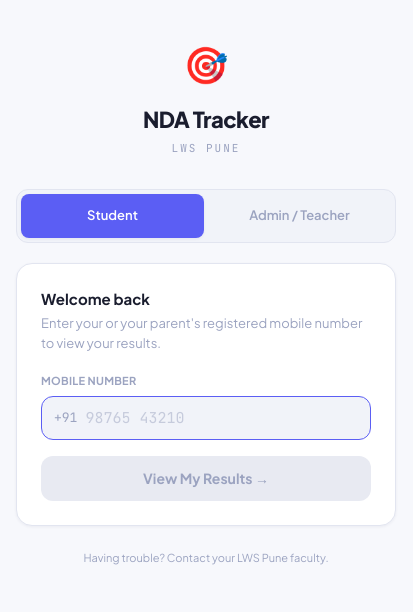
Test case: LoginPage — Student tab › shows error when mobile is not found (404)
The width and height of the screenshot is (413, 612).
Type "9999999999" into the field with placeholder "98765 43210" at (222, 418), box [85,407,358,429]
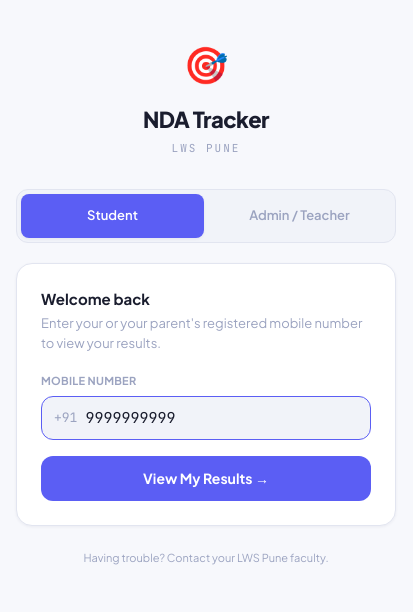
Click the button "View My Results →" at (206, 479), box [41,456,371,501]
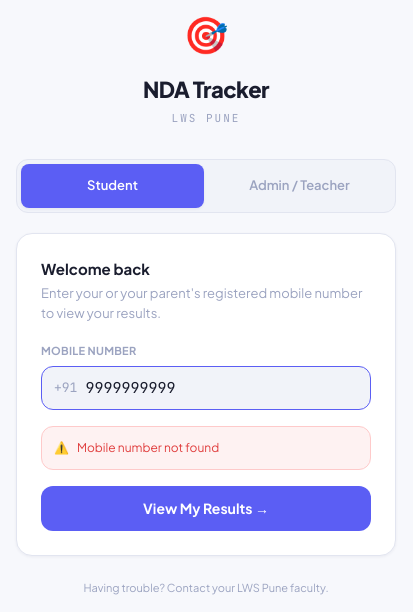
expect the text "Mobile number not found" is shown: met, box [77,439,219,457]
